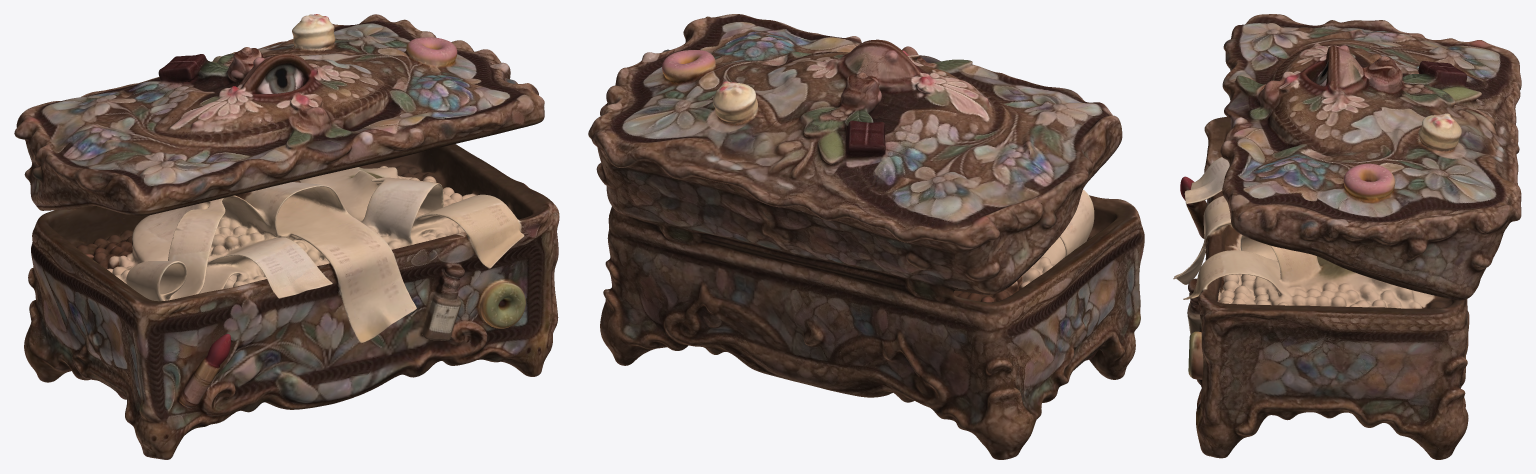
Rendered from box-small.glb.
3 renders of one model, left to right at view 1: azimuth 30°, elevation 25°; view 2: azimuth 150°, elevation 25°; view 3: azimuth 270°, elevation 25°, orthographic. The views are drawn at different scales.
Size of the model in its own units: 1.9 by 1.31 by 1.31.
Materials: 1 (1 with a texture image).
